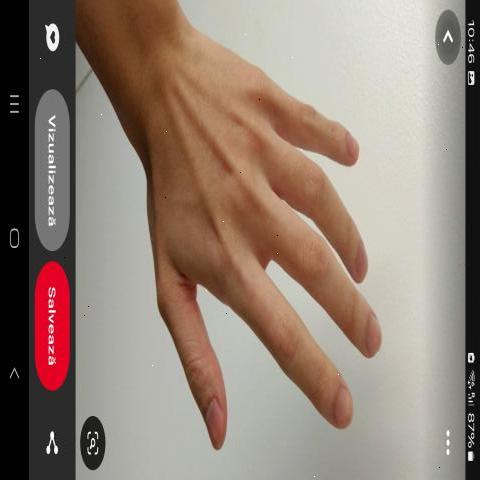Hands: (118, 12, 427, 464)
